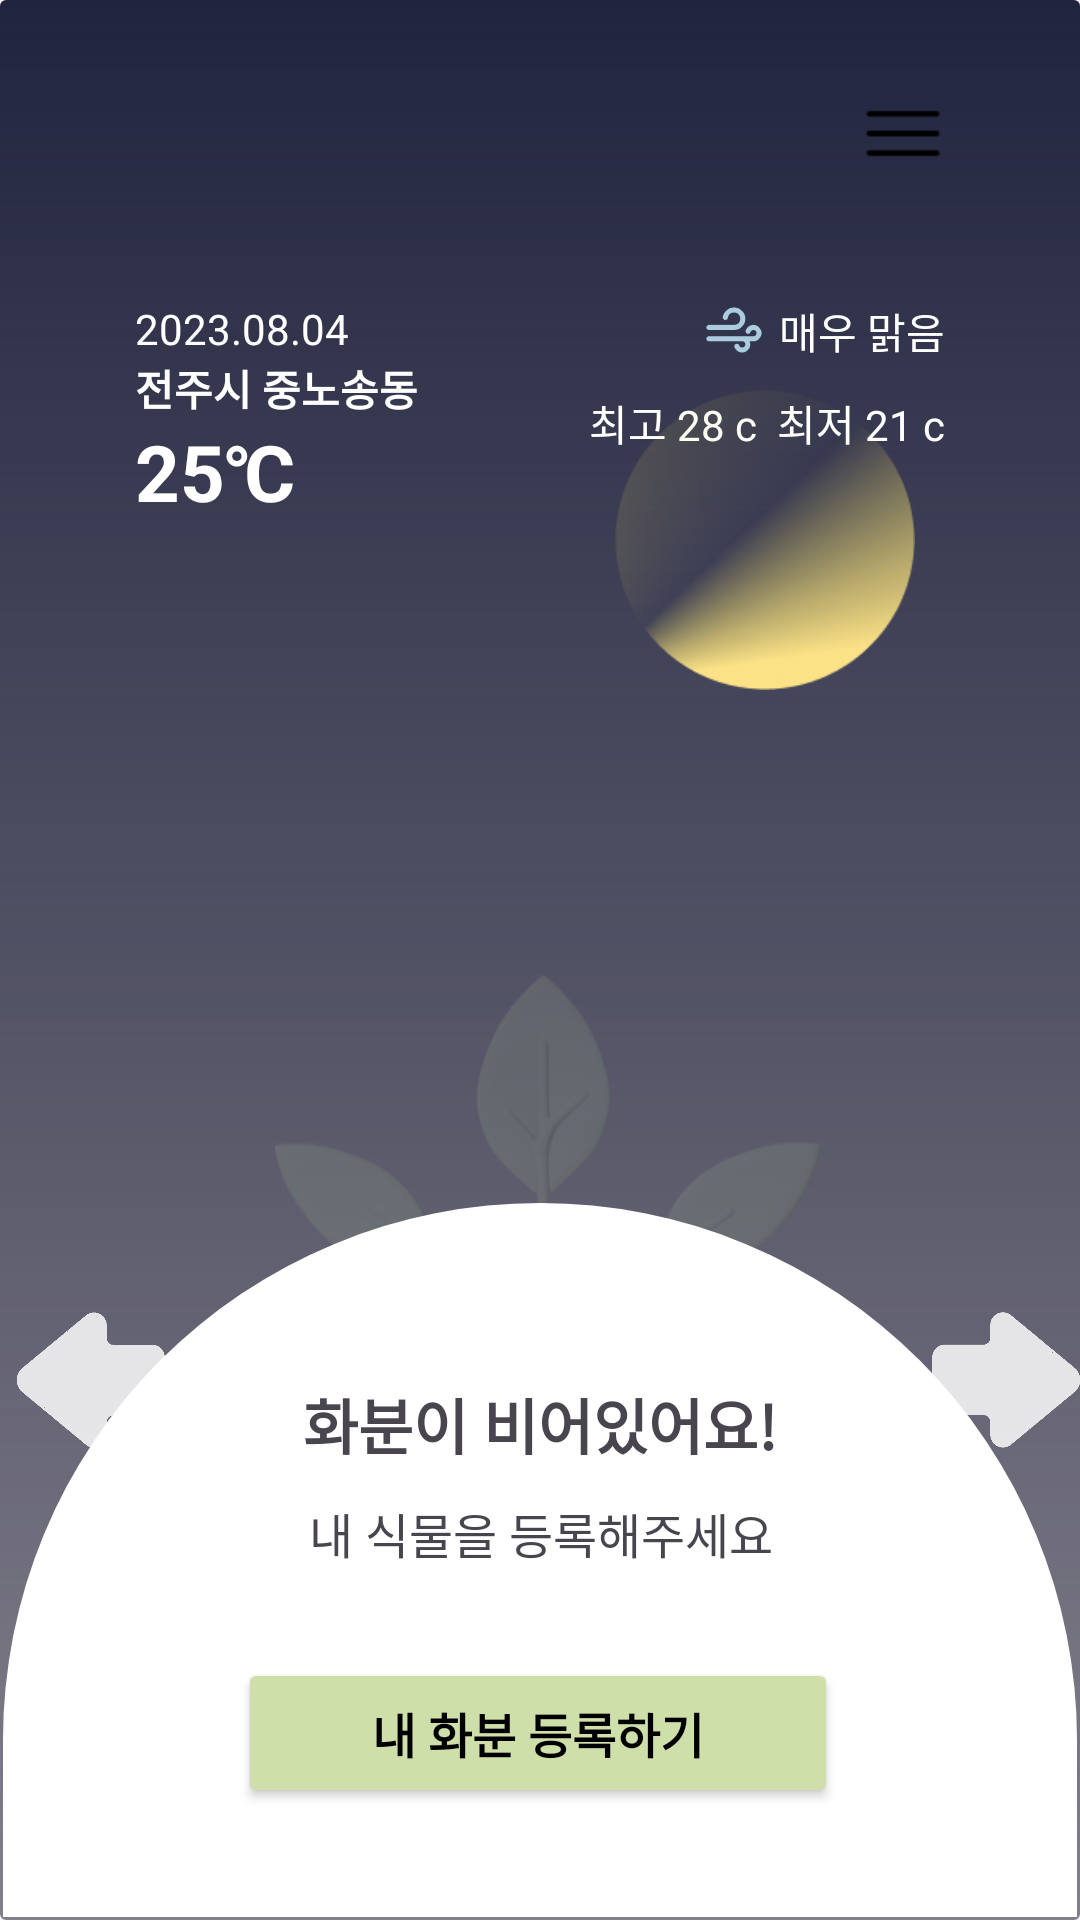

Named icons in this screenshot (1080 x 1920) and their centers, point (x, y):
menu: point (903, 133)
weather swing: point (734, 330)
